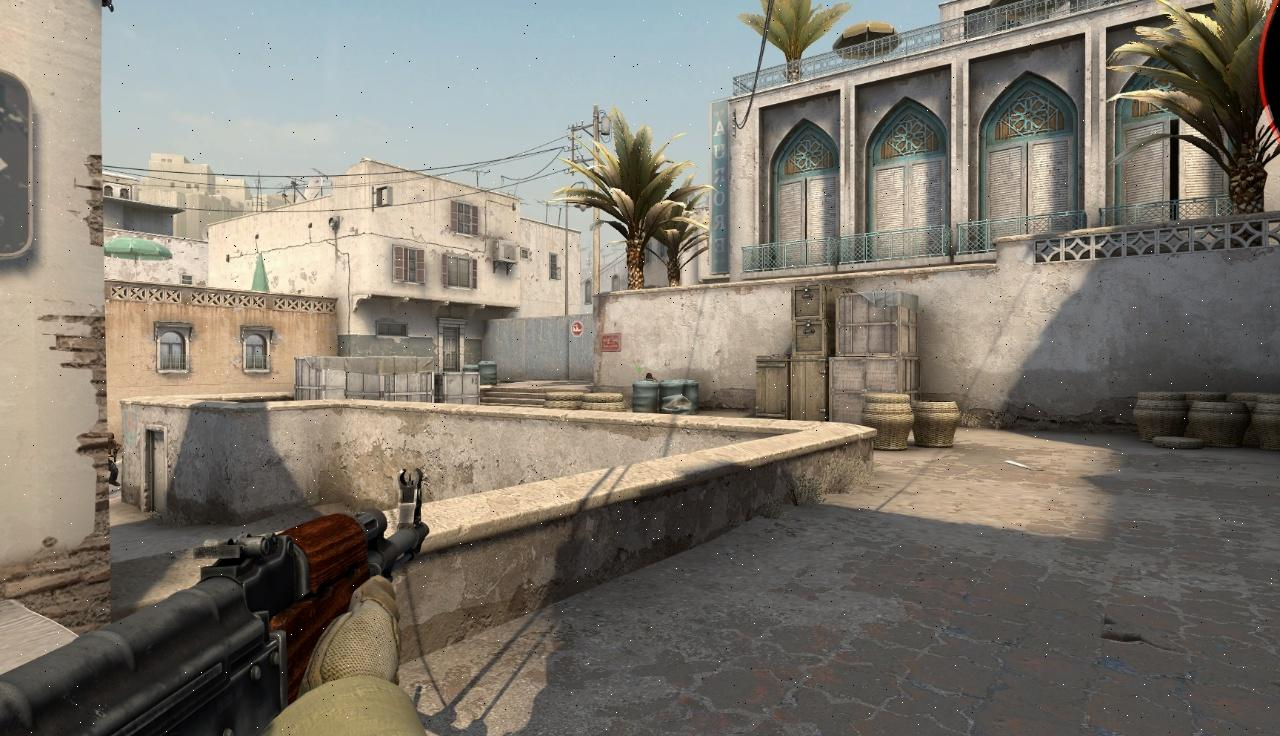rifle: (0, 468, 427, 736)
tt: (642, 371, 657, 382)
tthead: (646, 372, 652, 381)
